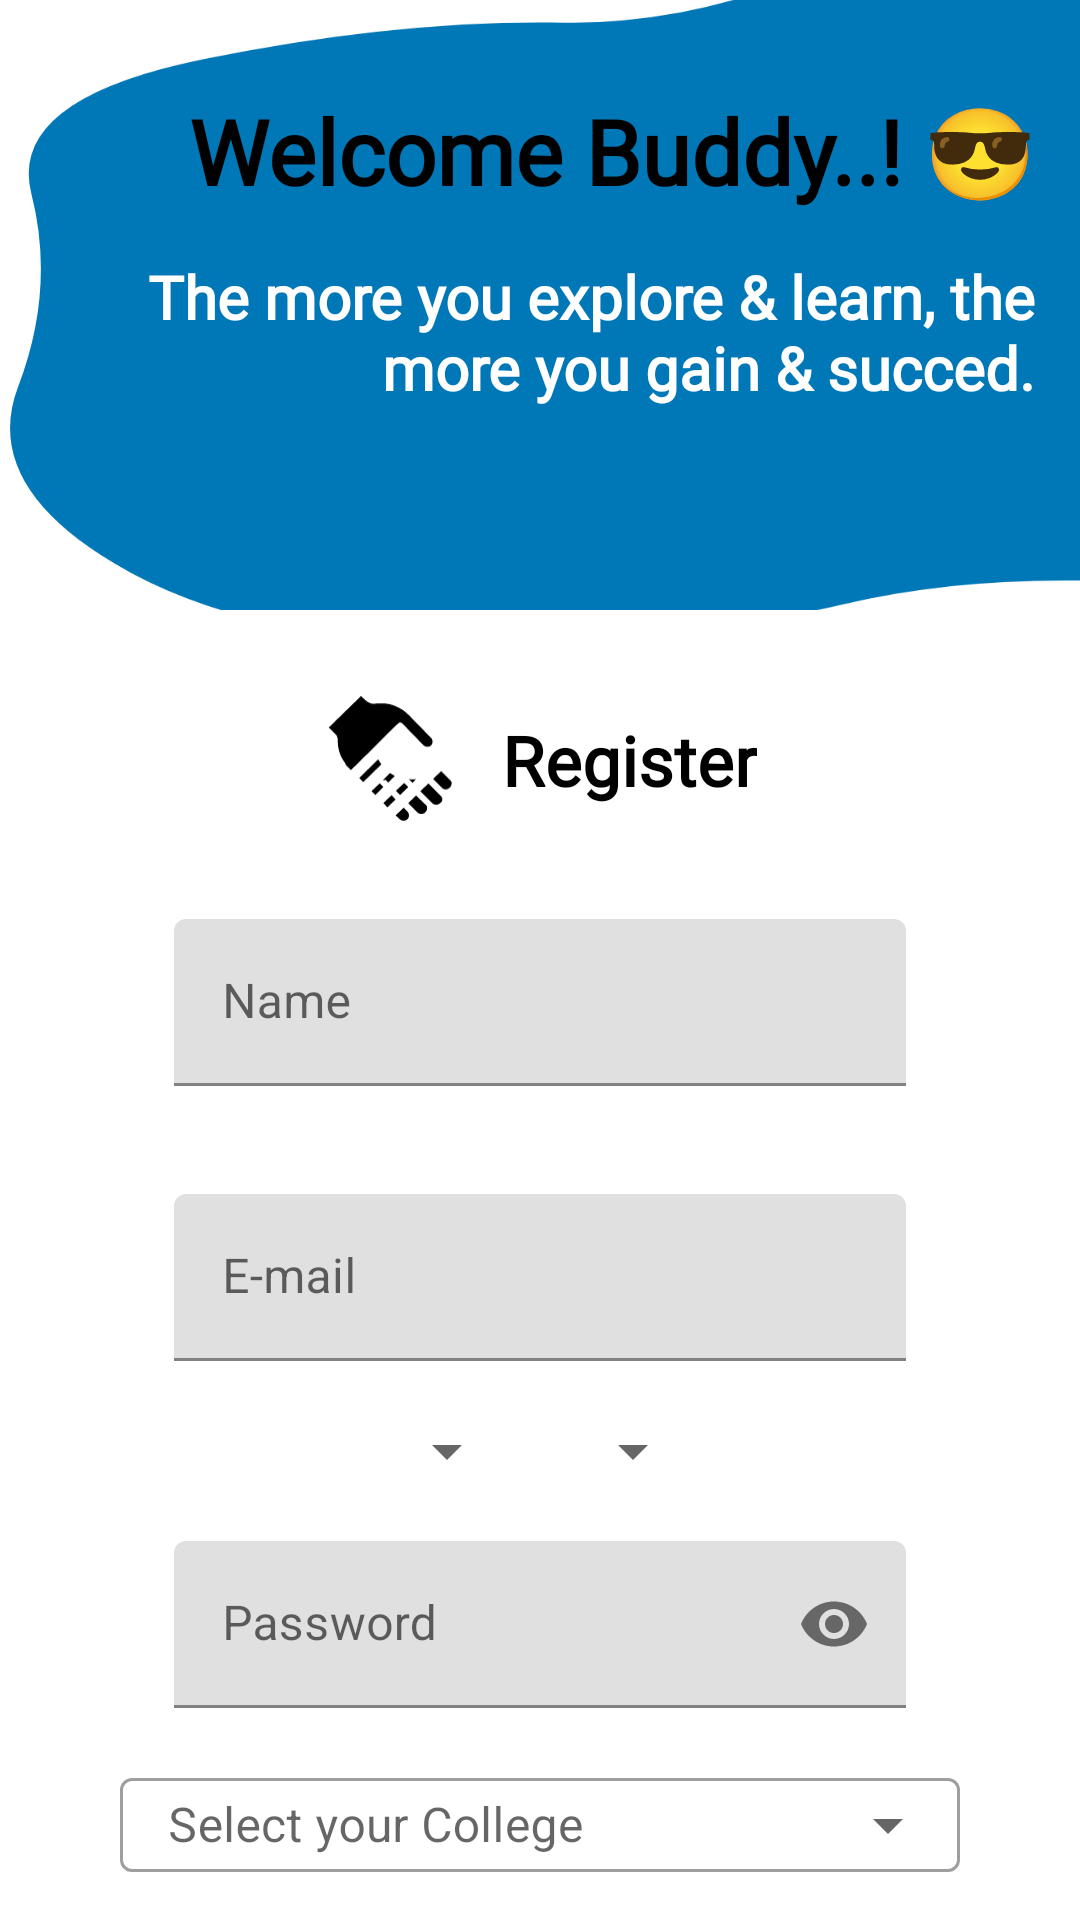

Where to tap for icons on this 1080x1920 app screen, as [x,y]:
joinus: [390,758]
